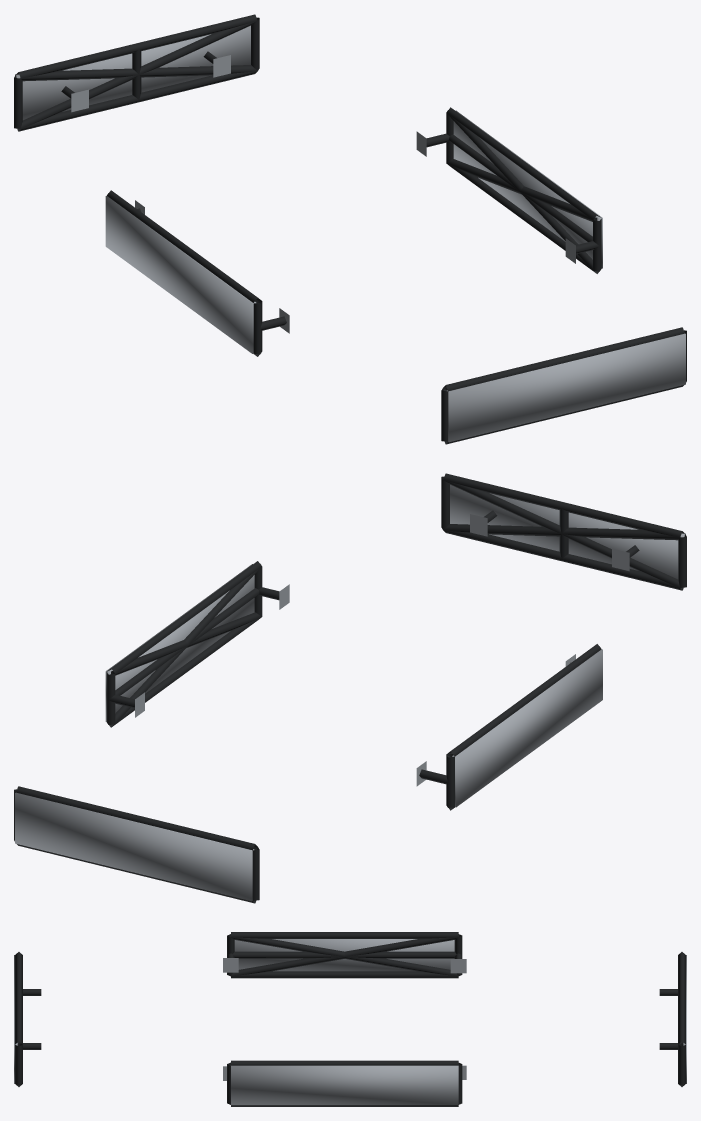
The model's file is tridella_martelo_protecao.glb.
The picture shows the model from 3 angles, top to bottom: view 1: azimuth 30°, elevation 25°; view 2: azimuth 150°, elevation 25°; view 3: azimuth 270°, elevation 25°; orthographic projection. The views are drawn at different scales.
Visible parts, largest first — view 1: Protection_front_Level3_Details, Protection_left_Level3_Details, Protection_rear_Level1_Details, Protection_rear_Level3_Details, Protection_right_Level1_Details, Protection_rear_Level2_Details, Protection_right_Level2_Details, Protection_right_Level3_Details, Protection_front_Level1_Details, Protection_left_Level1_Details; view 2: Protection_rear_Level3_Details, Protection_left_Level3_Details, Protection_front_Level1_Details, Protection_front_Level3_Details, Protection_right_Level1_Details, Protection_front_Level2_Details, Protection_right_Level2_Details, Protection_right_Level3_Details, Protection_rear_Level1_Details, Protection_left_Level1_Details; view 3: Protection_right_Level3_Details, Protection_left_Level2_Details, Protection_left_Level1_Details, Protection_left_Level3_Details, Protection_right_Level1_Details, Protection_rear_Level1_Details, Protection_front_Level1_Details.
Part boxes in pixels (<box>): Protection_front_Level3_Details: <box>446,333,685,442</box>; Protection_left_Level3_Details: <box>105,195,256,353</box>; Protection_rear_Level1_Details: <box>14,14,259,131</box>; Protection_rear_Level3_Details: <box>15,25,250,120</box>; Protection_right_Level1_Details: <box>416,107,601,273</box>; Protection_rear_Level2_Details: <box>16,21,257,130</box>; Protection_right_Level2_Details: <box>446,113,600,273</box>; Protection_right_Level3_Details: <box>453,110,602,268</box>; Protection_front_Level1_Details: <box>441,327,686,444</box>; Protection_left_Level1_Details: <box>107,190,289,356</box>; Protection_rear_Level3_Details: <box>15,792,254,901</box>; Protection_left_Level3_Details: <box>452,649,602,807</box>; Protection_front_Level1_Details: <box>441,473,686,590</box>; Protection_front_Level3_Details: <box>450,484,685,579</box>; Protection_right_Level1_Details: <box>106,561,289,727</box>; Protection_front_Level2_Details: <box>443,480,684,589</box>; Protection_right_Level2_Details: <box>107,567,261,727</box>; Protection_right_Level3_Details: <box>105,564,254,721</box>; Protection_rear_Level1_Details: <box>14,786,259,903</box>; Protection_left_Level1_Details: <box>416,644,601,810</box>; Protection_right_Level3_Details: <box>231,1065,458,1105</box>; Protection_left_Level2_Details: <box>230,934,458,976</box>; Protection_left_Level1_Details: <box>223,932,466,978</box>; Protection_left_Level3_Details: <box>234,939,454,971</box>; Protection_right_Level1_Details: <box>223,1060,466,1106</box>; Protection_rear_Level1_Details: <box>659,952,685,1086</box>; Protection_front_Level1_Details: <box>15,952,41,1086</box>.
Bounding box in the file's own units: 2.18 × 0.354 × 4.67.
1 material, 1 textured.
